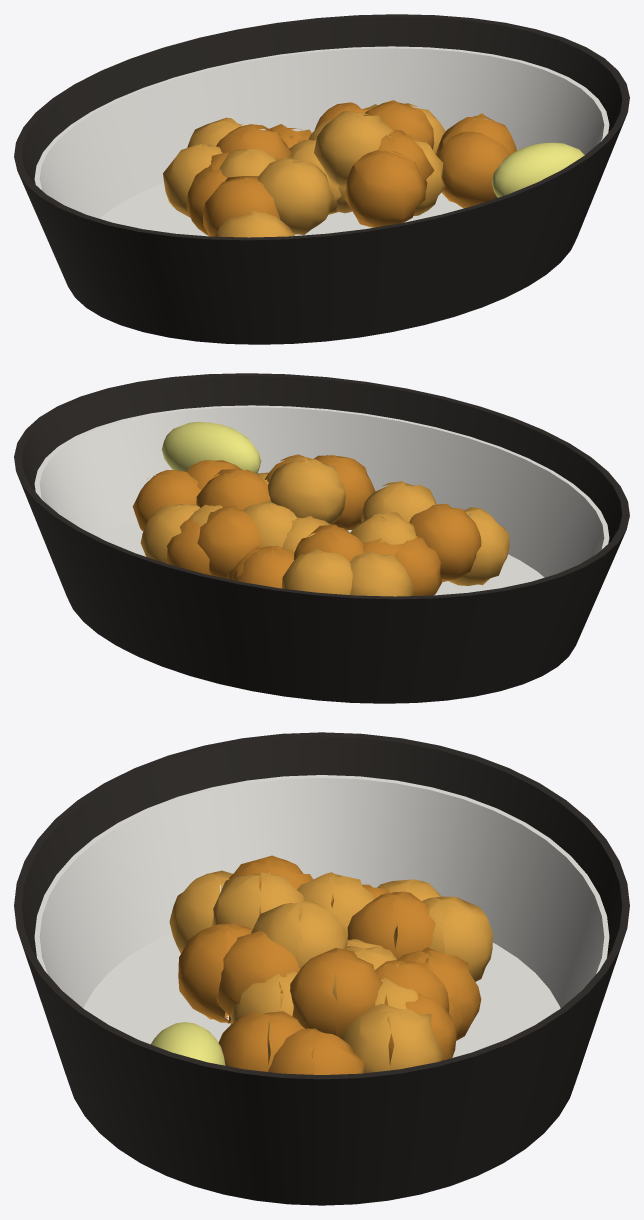
Rendered from porcao-bolinhas.glb.
3 views of the same model, one above another, from view 1: azimuth 30°, elevation 25°; view 2: azimuth 150°, elevation 25°; view 3: azimuth 270°, elevation 25° (orthographic). The views are drawn at different scales.
Visible parts, largest first — view 1: porcao-bolinhas; view 2: porcao-bolinhas; view 3: porcao-bolinhas.
Boxes of the visible parts, box(x1,y1,x2,y2) form: porcao-bolinhas: box(14, 14, 629, 344); porcao-bolinhas: box(14, 373, 629, 703); porcao-bolinhas: box(14, 732, 629, 1205).
Bounding box in the file's own units: 0.24 × 0.0563 × 0.18.
